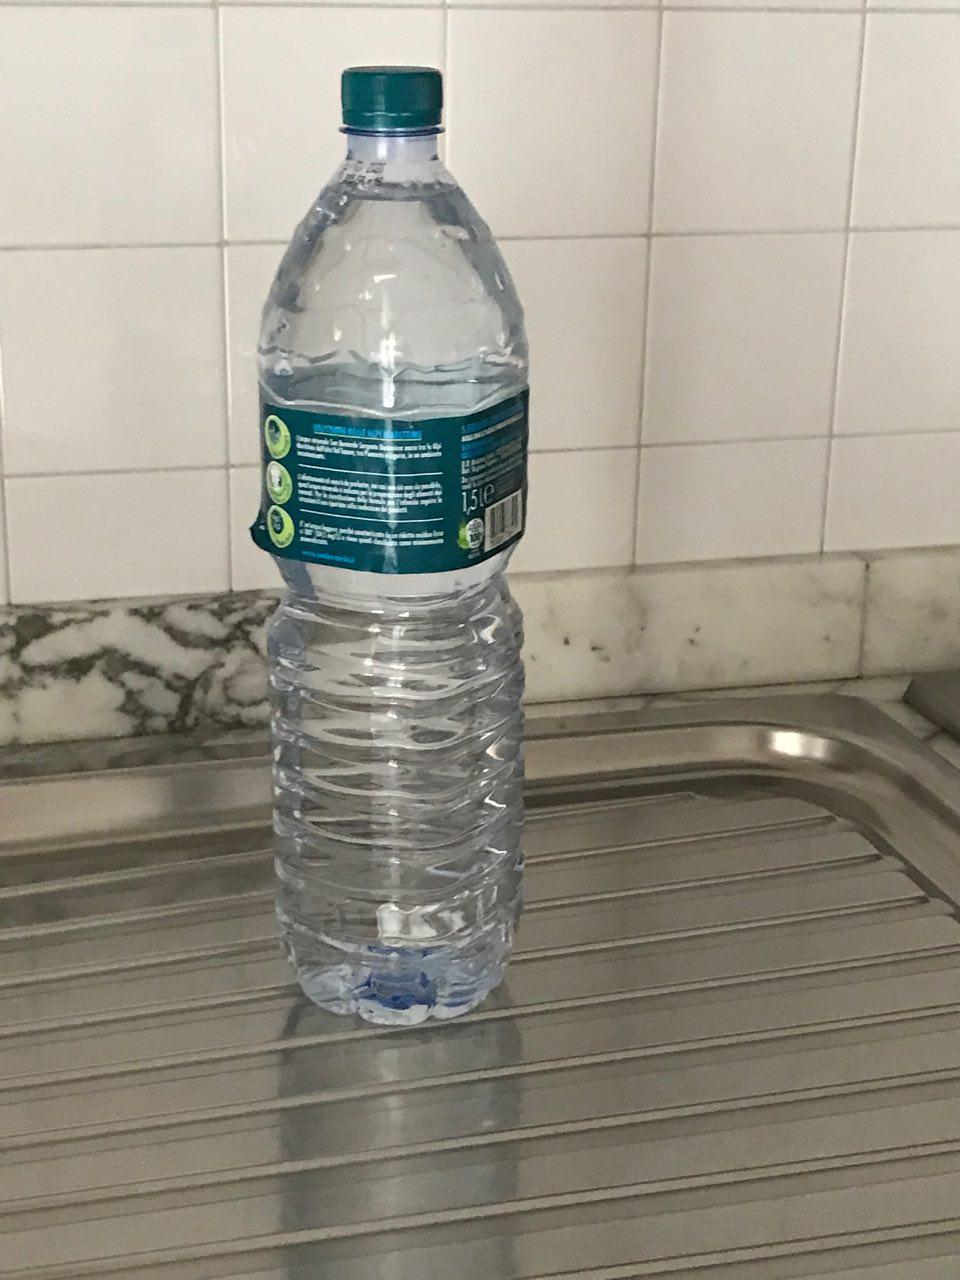san_bernardo: (252, 63, 533, 1024)
